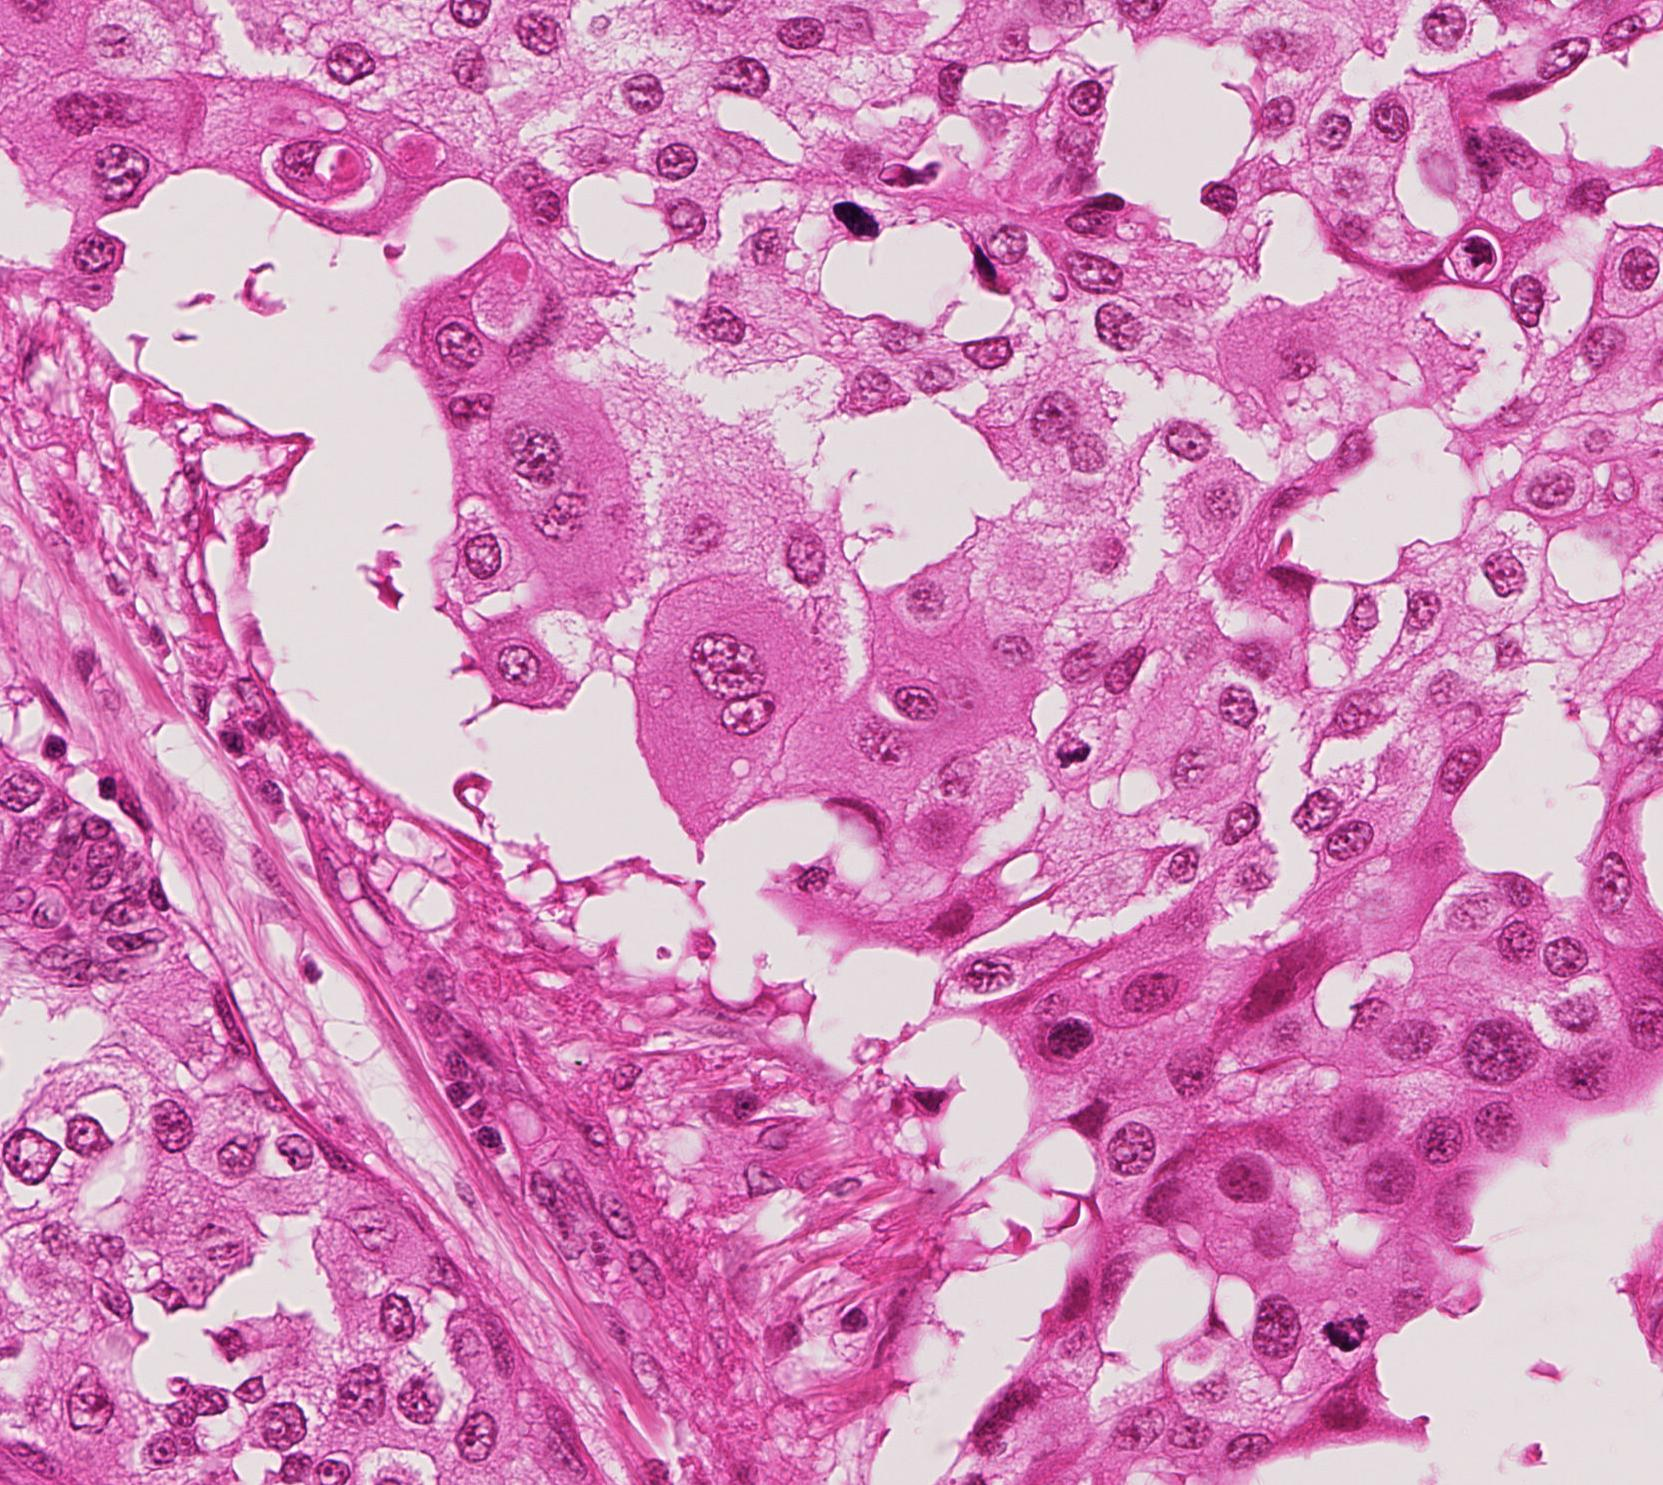mitosis: (1316, 1302, 1376, 1362)
